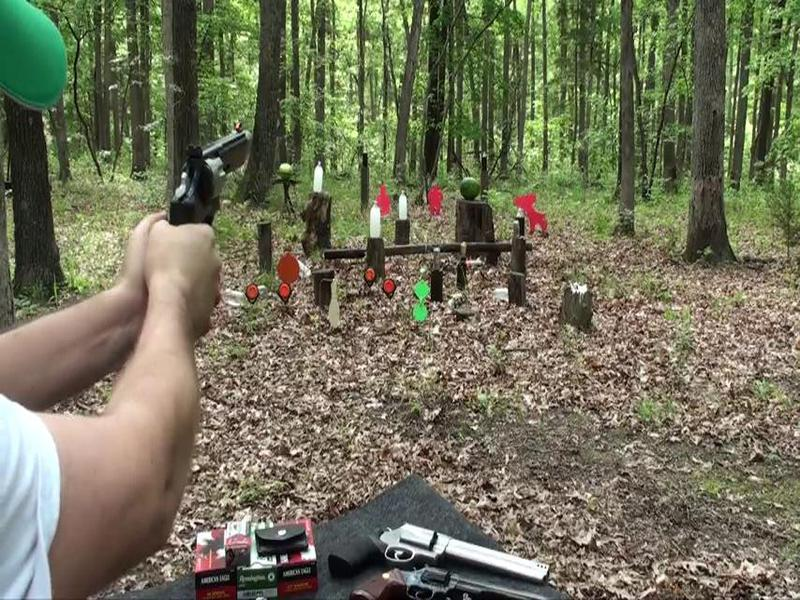Revolver: (157, 104, 273, 265)
